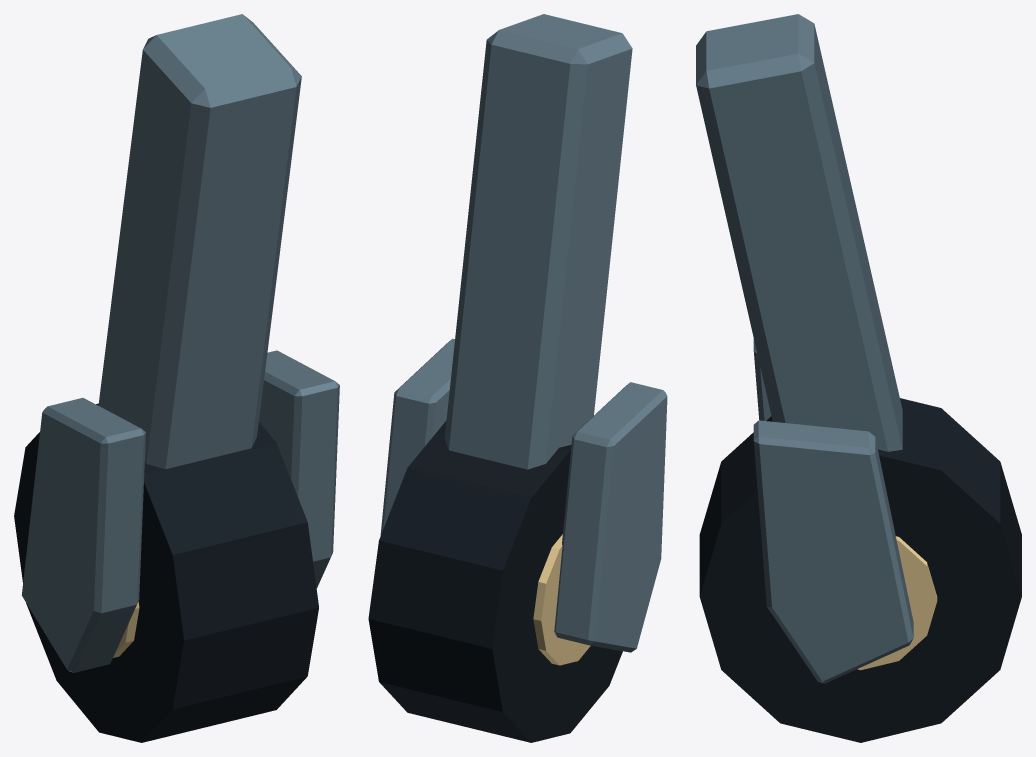
File: EA_NoseWheel.fbx
The picture shows the model from 3 angles, left to right: view 1: azimuth 30°, elevation 25°; view 2: azimuth 150°, elevation 25°; view 3: azimuth 270°, elevation 25°; orthographic projection. The views are drawn at different scales.
Visible parts, largest first — view 1: EA_NoseWheel; view 2: EA_NoseWheel; view 3: EA_NoseWheel.
Part boxes in pixels (x1,y1,x2,y2): EA_NoseWheel: (14,14,339,742); EA_NoseWheel: (368,14,667,742); EA_NoseWheel: (696,14,1021,742).
Size of the model in its own units: 0.195 by 0.5571 by 0.2427.
